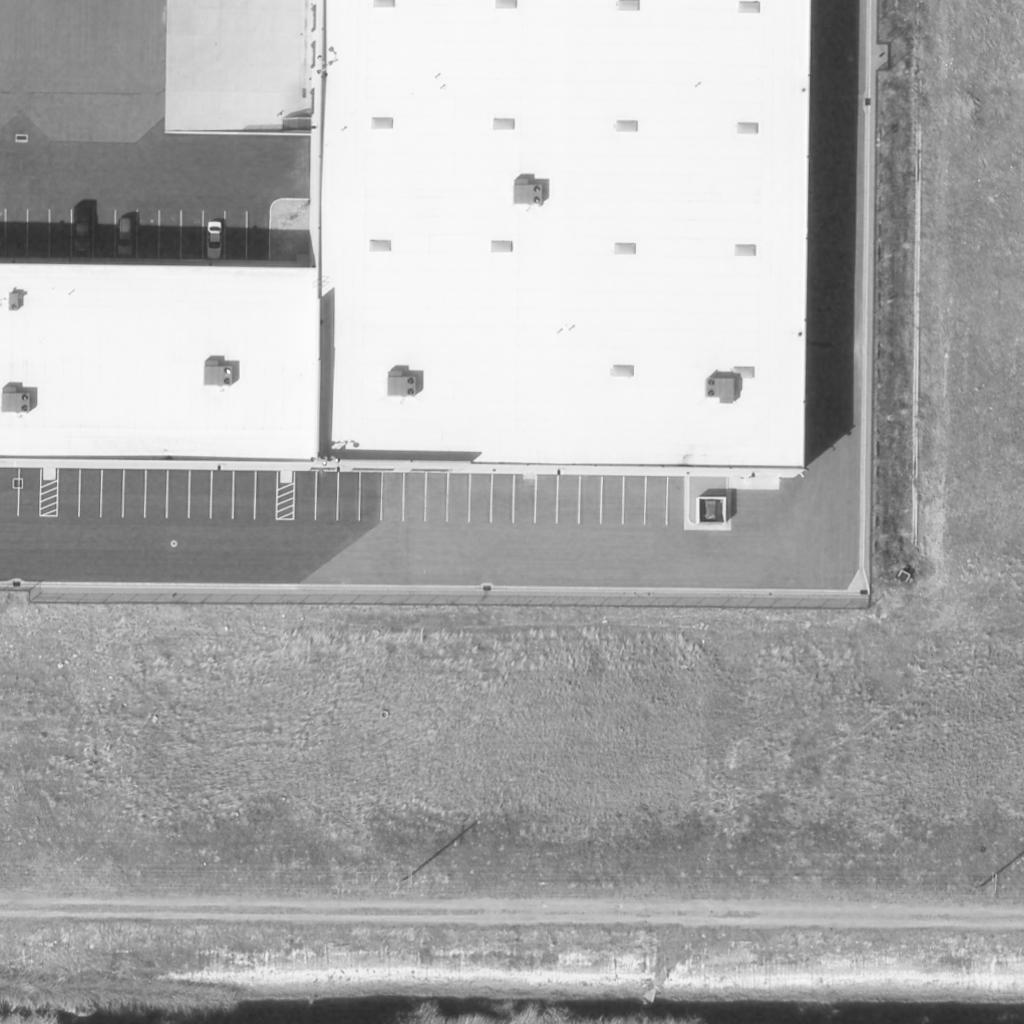vehicle: (72, 205, 92, 251), (117, 220, 135, 258), (207, 222, 223, 260)
